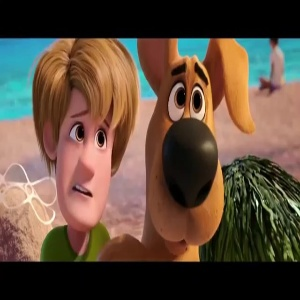Scooby: (137, 37, 255, 243)
Shagy: (32, 35, 127, 234)
